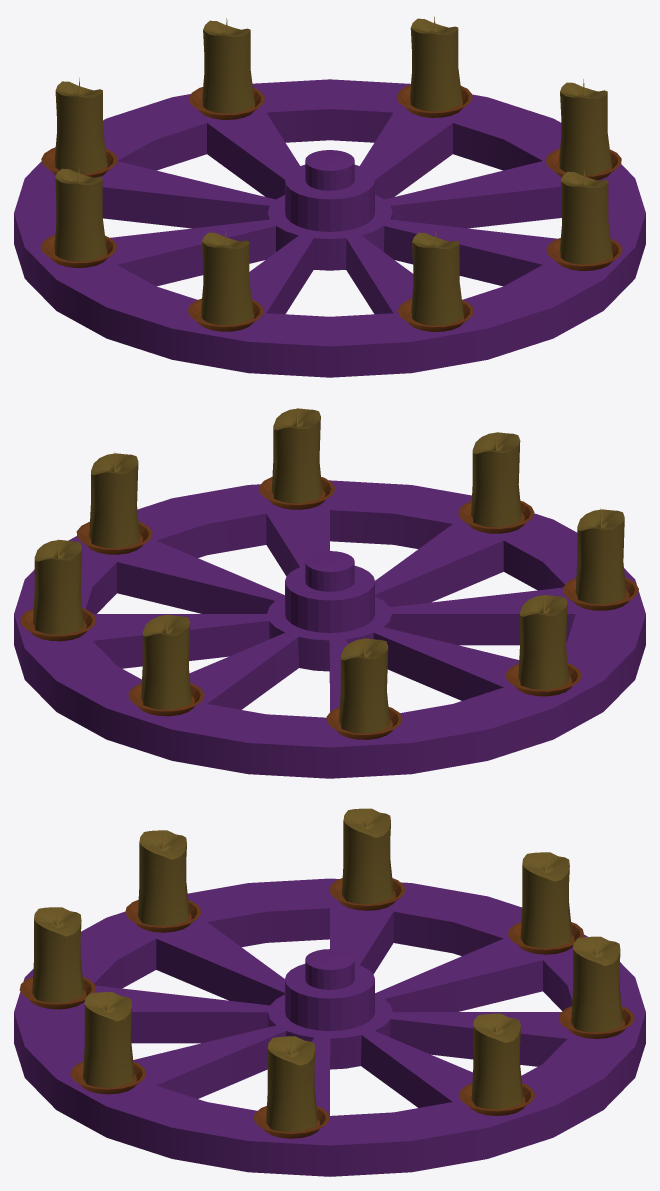
The model's file is chandelier_low.fbx.
3 renders of one model, top to bottom at view 1: azimuth 30°, elevation 25°; view 2: azimuth 150°, elevation 25°; view 3: azimuth 270°, elevation 25°, orthographic.
Parts seen in each view (by area): view 1: cadre, bougie001, bougie003, bougie004, bougie002, bougie005, bougie007, bougie, bougie006, souscooupe007, souscooupe002, souscooupe005 (+5 smaller); view 2: cadre, bougie006, bougie002, bougie005, bougie004, bougie003, bougie001, bougie007, bougie, souscooupe004, souscooupe005, souscooupe002 (+5 smaller); view 3: cadre, bougie, bougie003, bougie001, bougie007, bougie004, bougie006, bougie005, bougie002, souscooupe, souscooupe005, souscooupe001 (+5 smaller).
Part boxes in pixels (box(x1,y1,x2,y2)): cadre: box(14, 79, 645, 377); bougie001: box(559, 169, 612, 264); bougie003: box(201, 228, 253, 325); bougie004: box(410, 16, 462, 111); bougie002: box(411, 230, 463, 325); bougie005: box(202, 18, 254, 113); bougie007: box(54, 166, 106, 261); bougie: box(559, 79, 611, 175); bougie006: box(54, 78, 106, 173); souscooupe007: box(41, 235, 116, 267); souscooupe002: box(397, 299, 473, 331); souscooupe005: box(188, 87, 264, 119); cadre: box(14, 480, 645, 778); bougie006: box(339, 637, 389, 733); bougie002: box(471, 432, 521, 527); bougie005: box(141, 614, 191, 709); bougie004: box(33, 539, 83, 634); bougie003: box(575, 508, 626, 604); bougie001: box(271, 408, 322, 503); bougie007: box(518, 595, 568, 689); bougie: box(89, 452, 139, 548); souscooupe004: box(20, 608, 96, 641); souscooupe005: box(128, 683, 204, 716); souscooupe002: box(458, 500, 534, 533); cadre: box(14, 878, 645, 1176); bougie: box(266, 1036, 317, 1132); bougie003: box(138, 830, 189, 926); bougie001: box(83, 992, 134, 1087); bougie007: box(342, 808, 393, 904); bougie004: box(471, 1013, 523, 1109); bougie006: box(520, 852, 572, 948); bougie005: box(571, 936, 622, 1032); bougie002: box(32, 907, 83, 1002); souscooupe: box(253, 1106, 329, 1138); souscooupe005: box(558, 1006, 634, 1038); souscooupe001: box(70, 1061, 146, 1094).
Bounding box in the file's own units: 48.43 × 10.38 × 48.43.
